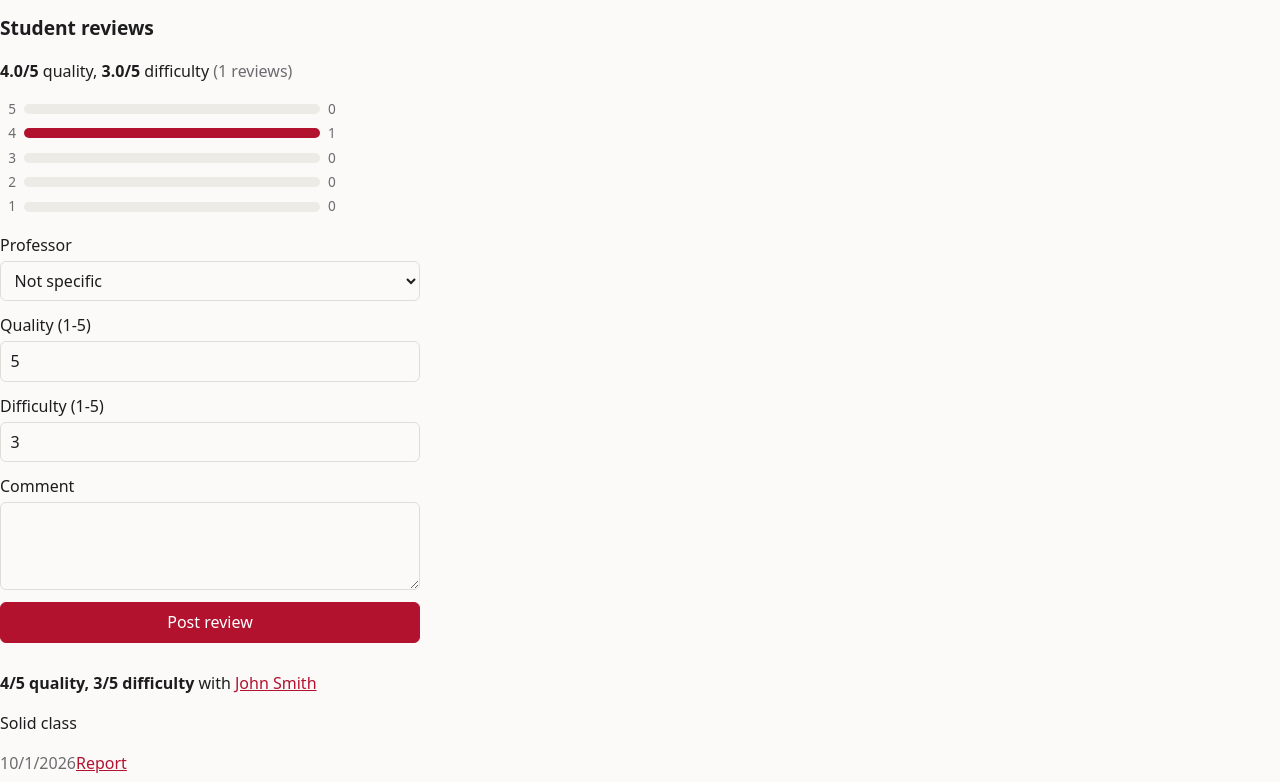
Test case: Reviews › reporting › sends a report with the chosen reason
This screenshot has width=1280, height=782.
Click the button "Report" at [101, 763], box x1=76 y1=751 x2=127 y2=775
(page scrolled)
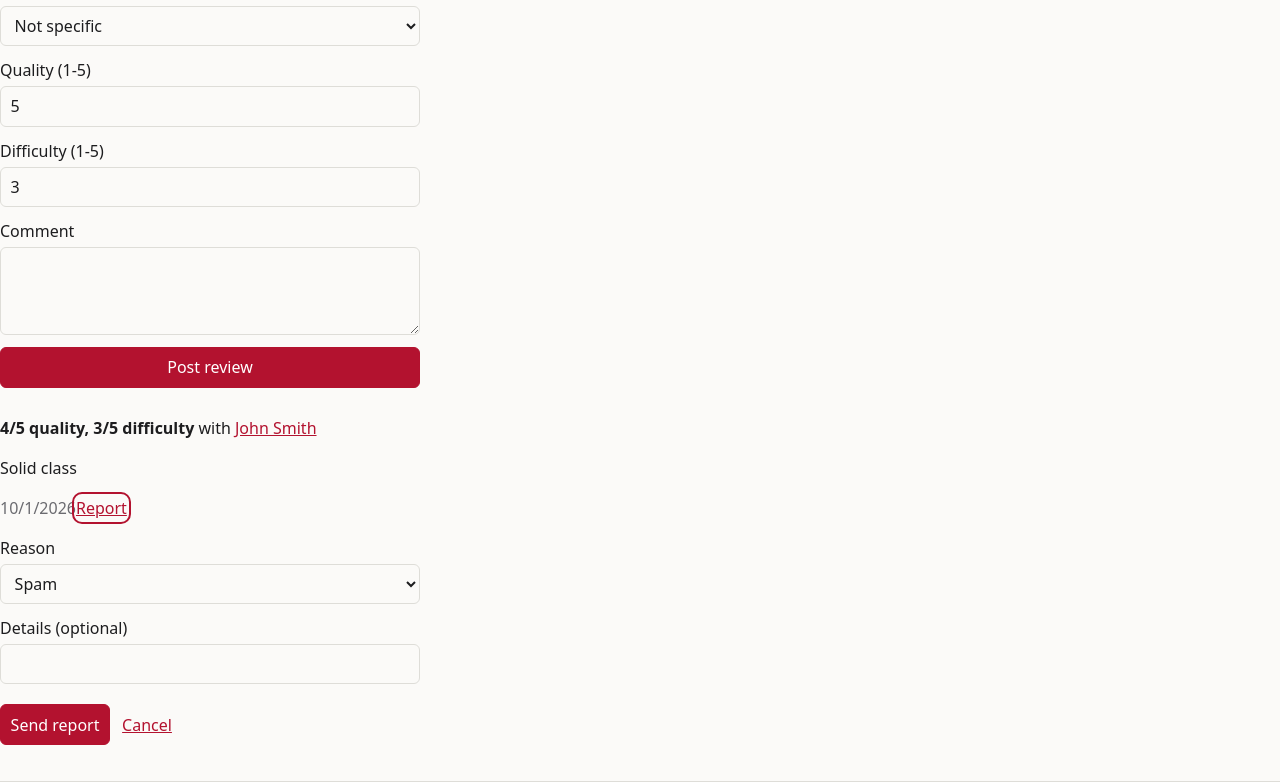
Select "Offensive or abusive" in the dropdown labelled "Reason" at [210, 584], box x1=0 y1=564 x2=420 y2=604
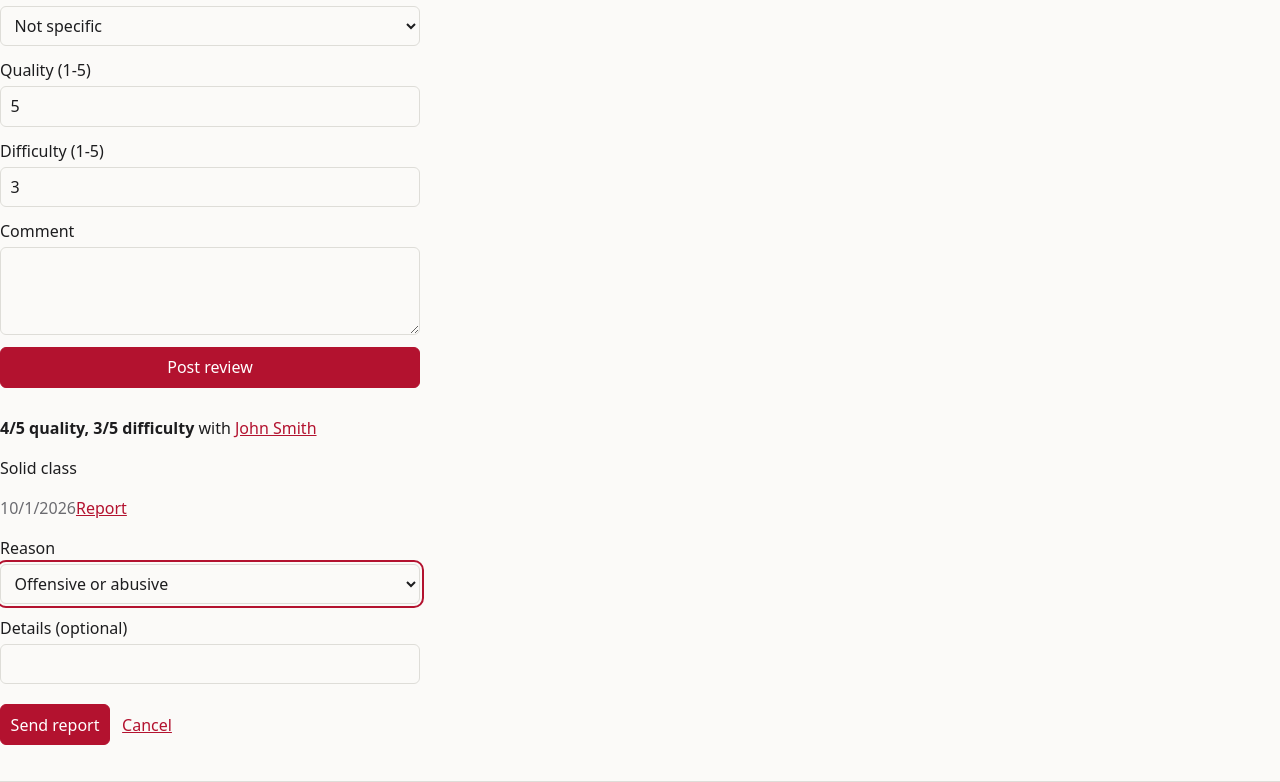
Type "  rude  " into the field labelled "Details (optional)" at [210, 664], box x1=0 y1=644 x2=420 y2=684
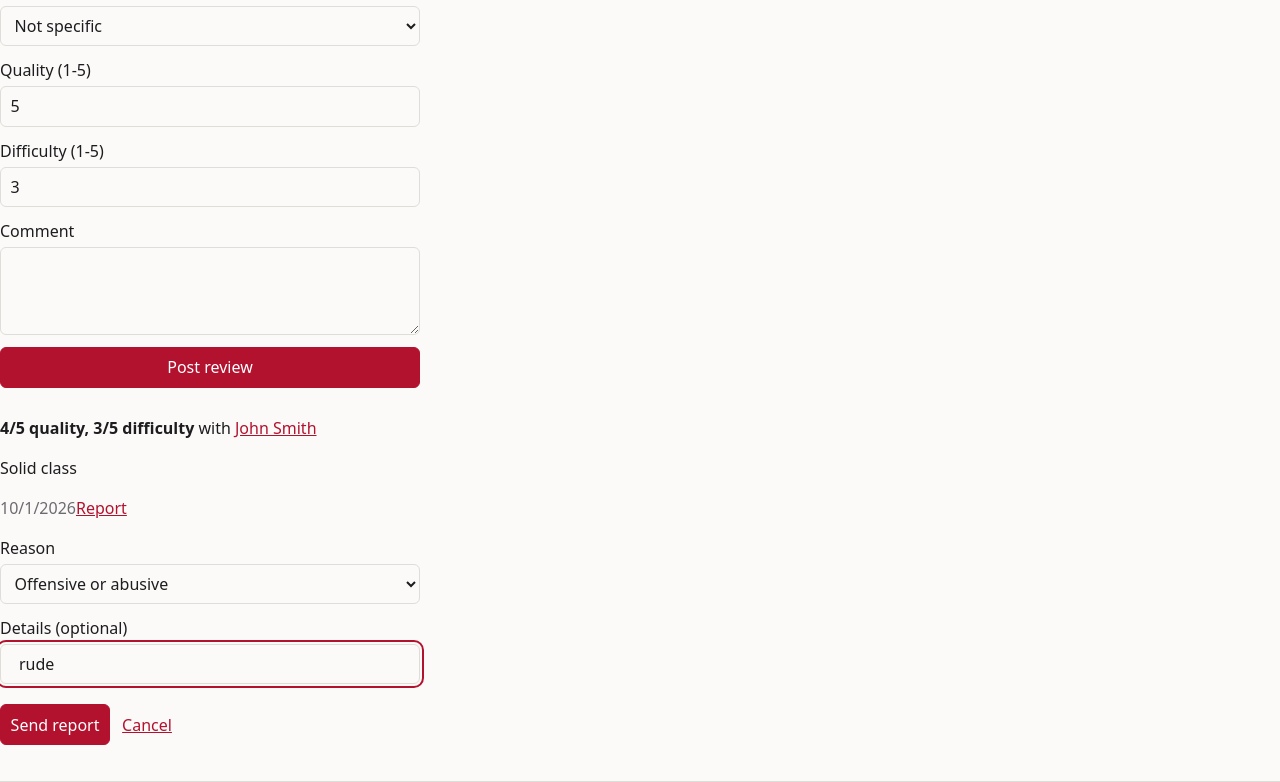
Click the button "Send report" at [55, 725], box x1=0 y1=704 x2=110 y2=745
(page scrolled)
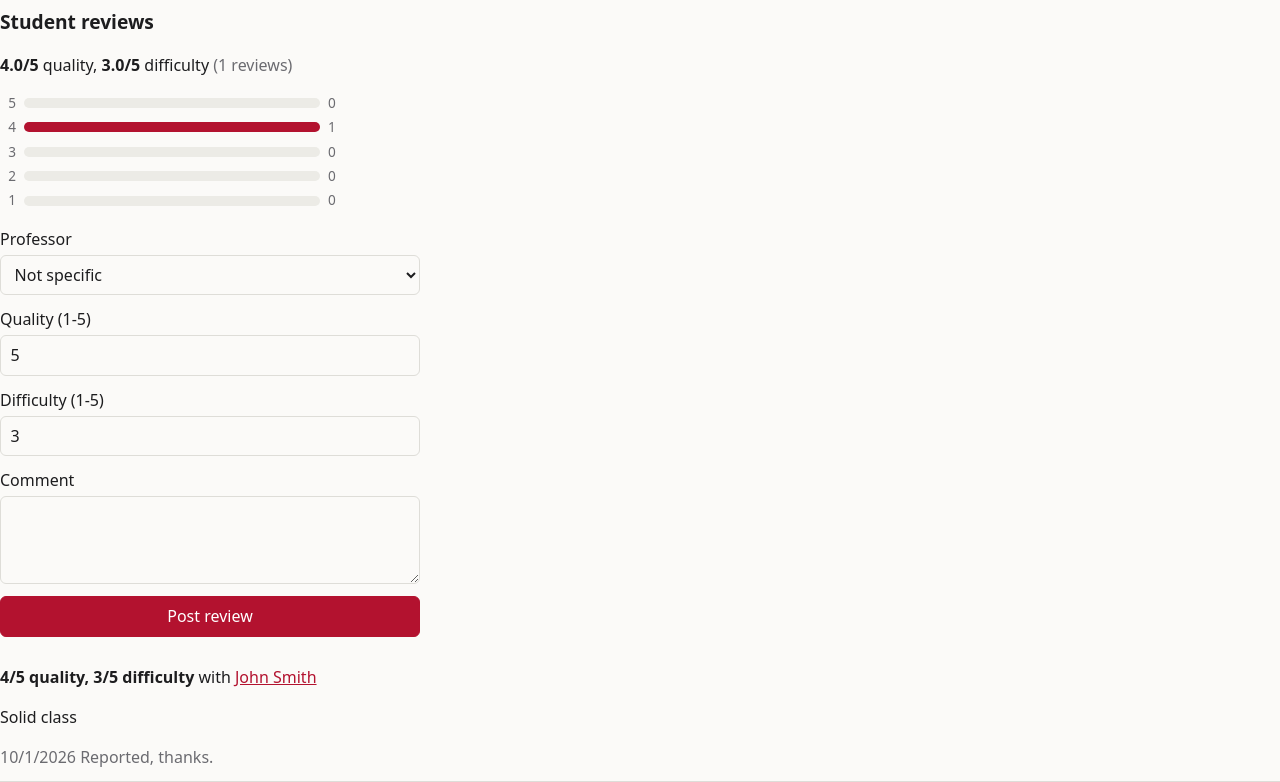
Check: the text "Reported, thanks." is shown, box x1=76 y1=746 x2=213 y2=768
